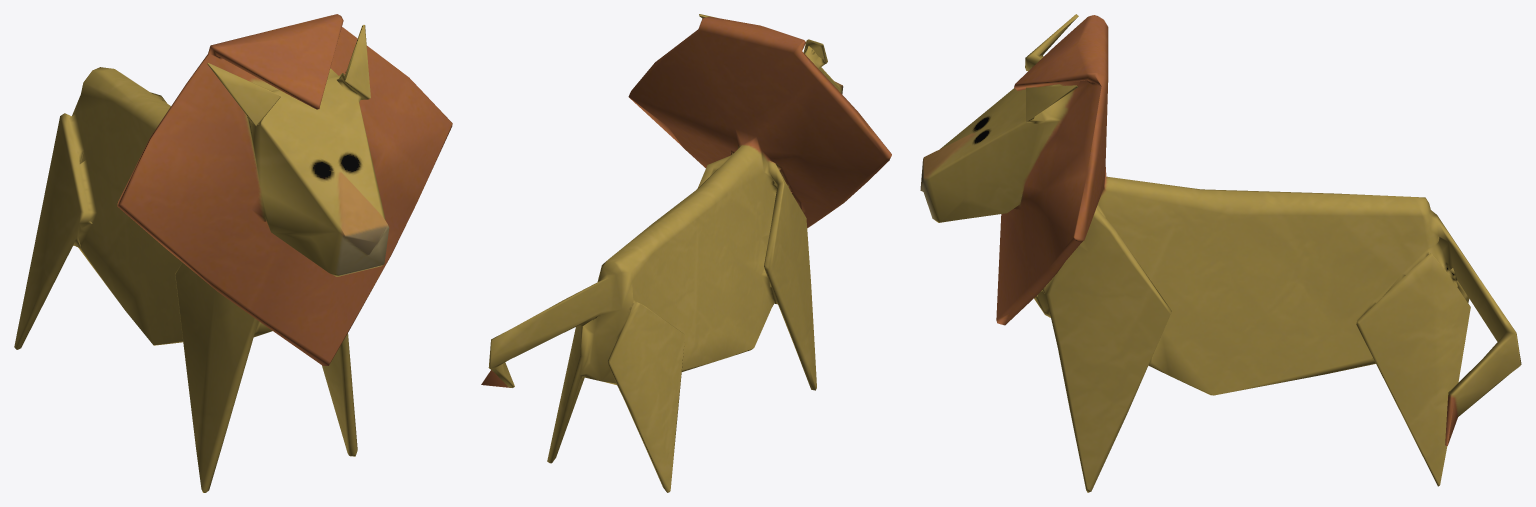
File: lion_FDRemesh_LOD2.fbx
3 views of the same model, side by side, from view 1: azimuth 30°, elevation 25°; view 2: azimuth 150°, elevation 25°; view 3: azimuth 270°, elevation 25° (orthographic). The views are drawn at different scales.
Visible parts, largest first — view 1: Simplygon_Proxy_3f171eb6-e151-4ed1-bf9a-518f24936aee; view 2: Simplygon_Proxy_3f171eb6-e151-4ed1-bf9a-518f24936aee; view 3: Simplygon_Proxy_3f171eb6-e151-4ed1-bf9a-518f24936aee.
Boxes of the visible parts, x1,y1,x2,y2 form: Simplygon_Proxy_3f171eb6-e151-4ed1-bf9a-518f24936aee: (14, 14, 452, 492); Simplygon_Proxy_3f171eb6-e151-4ed1-bf9a-518f24936aee: (481, 14, 891, 492); Simplygon_Proxy_3f171eb6-e151-4ed1-bf9a-518f24936aee: (920, 14, 1521, 492).
Size of the model in its own units: 4.45 by 5.67 by 7.45.
1 material, 1 textured.
